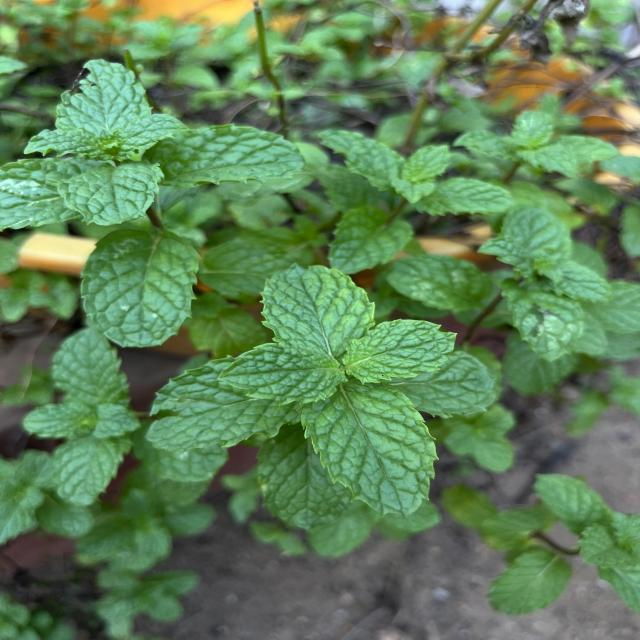Mentha spicata: (300, 385, 440, 520), (82, 228, 204, 348), (260, 262, 378, 344), (216, 339, 348, 406), (338, 317, 460, 385)
